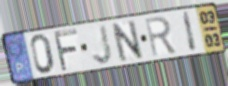0: (29, 33, 56, 75)
F: (52, 28, 80, 74)
I: (181, 10, 199, 53)
J: (91, 23, 115, 66)
N: (109, 19, 145, 64)
R: (143, 15, 178, 59)
